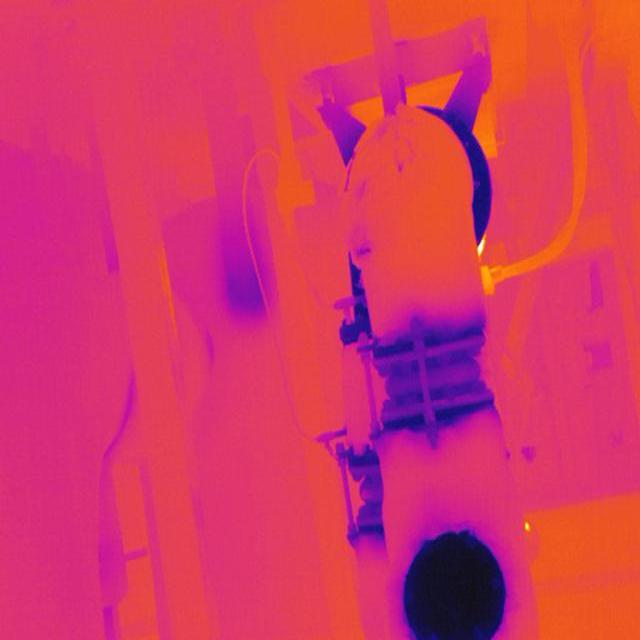leakage: (351, 237, 382, 266)
